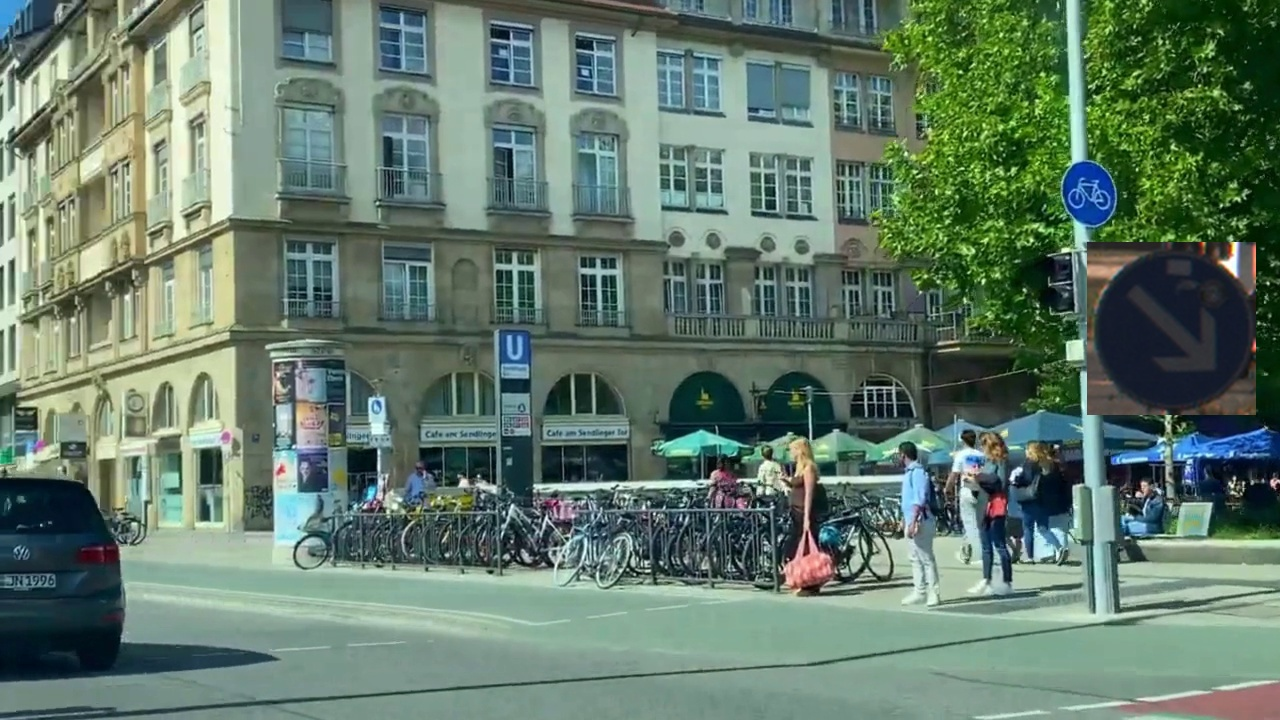Keep right: (1087, 242, 1256, 415)
